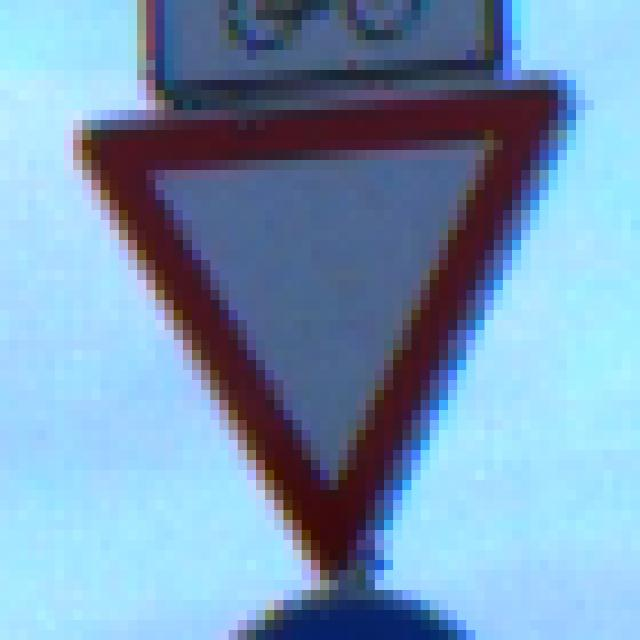Give Way: (56, 51, 586, 591)
